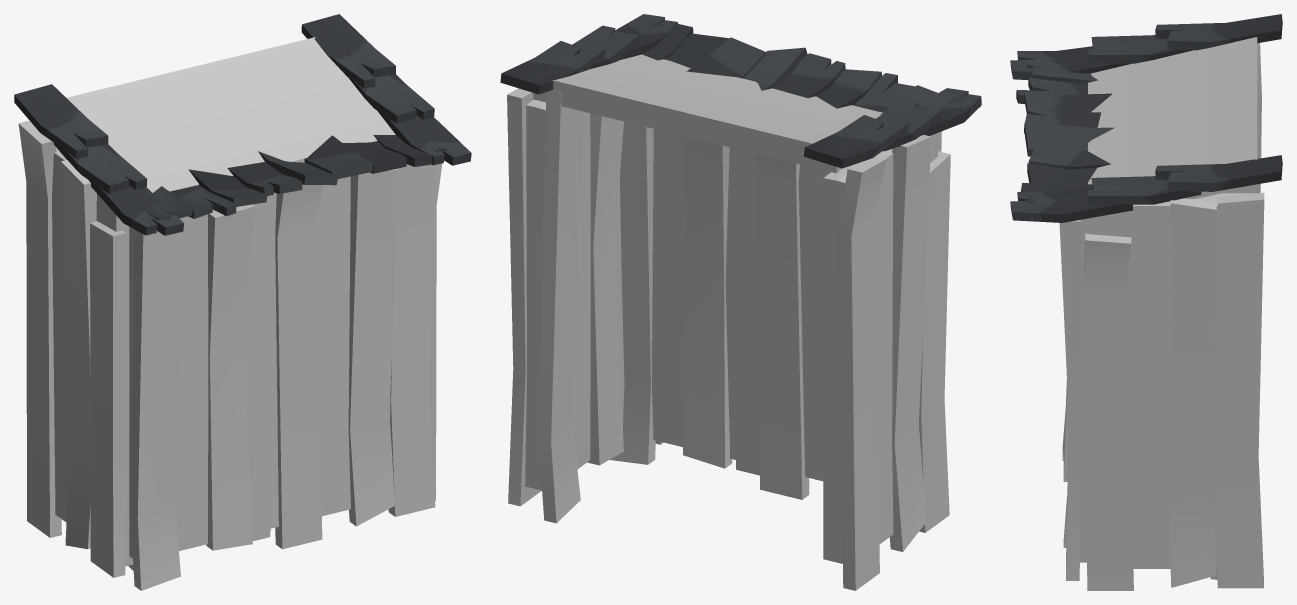
Rendered from SM_Bld_Shed_01.fbx.
3 views of the same model, side by side, from view 1: azimuth 30°, elevation 25°; view 2: azimuth 150°, elevation 25°; view 3: azimuth 270°, elevation 25° (orthographic). The views are drawn at different scales.
Visible parts, largest first — view 1: SM_Bld_Shed_01; view 2: SM_Bld_Shed_01; view 3: SM_Bld_Shed_01.
Part boxes in pixels (left/top/right/bottom): SM_Bld_Shed_01: left=14, top=14, right=471, bottom=590; SM_Bld_Shed_01: left=500, top=14, right=981, bottom=590; SM_Bld_Shed_01: left=1010, top=14, right=1282, bottom=590.
Bounding box in the file's own units: 295 × 353 × 204.
